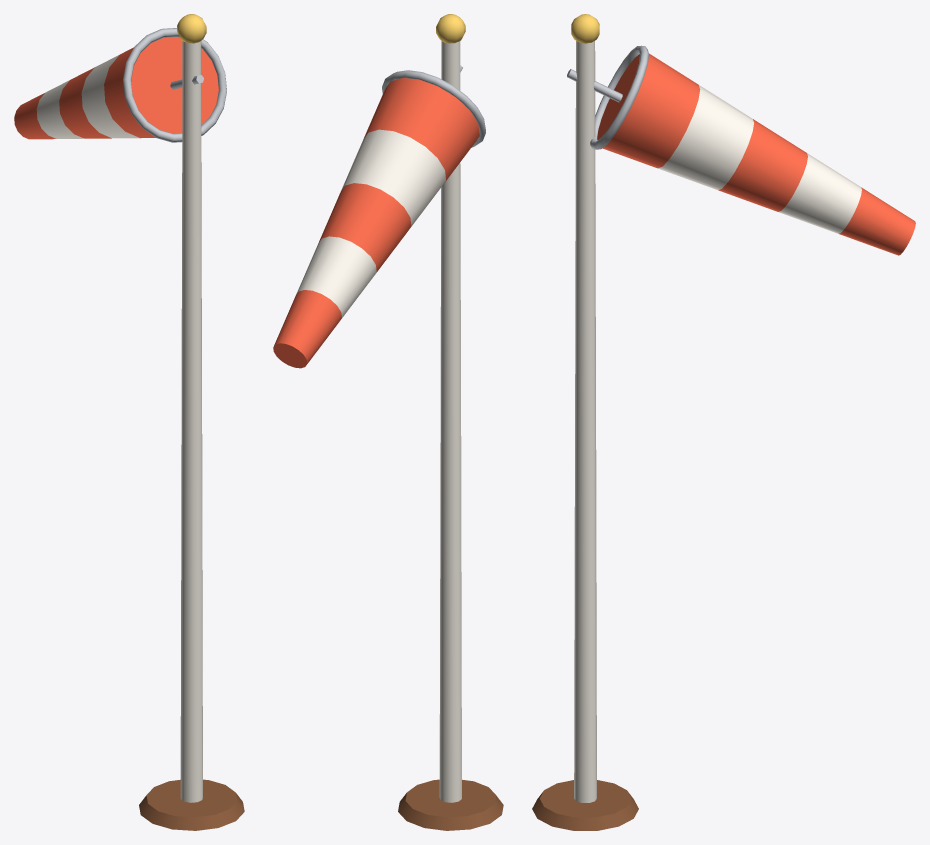
File: kite-windsock.glb
The picture shows the model from 3 angles, left to right: view 1: azimuth 30°, elevation 25°; view 2: azimuth 150°, elevation 25°; view 3: azimuth 270°, elevation 25°; orthographic projection.
Size of the model in its own units: 0.304 by 2.29 by 1.
